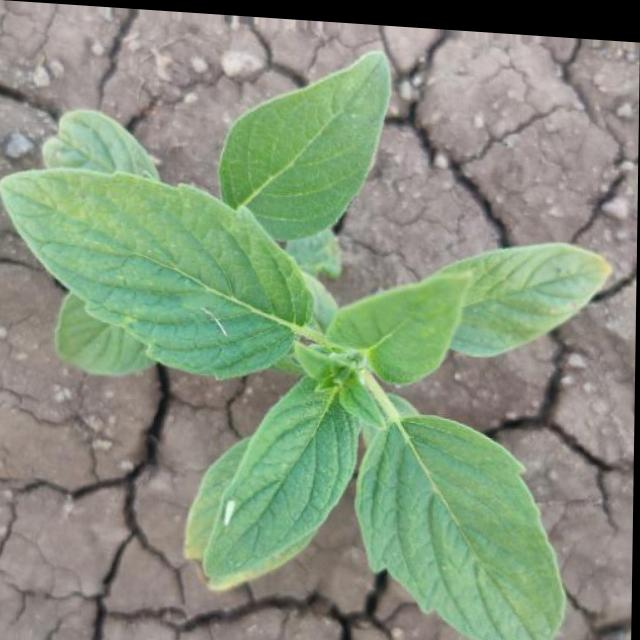crop: (0, 24, 614, 640)
